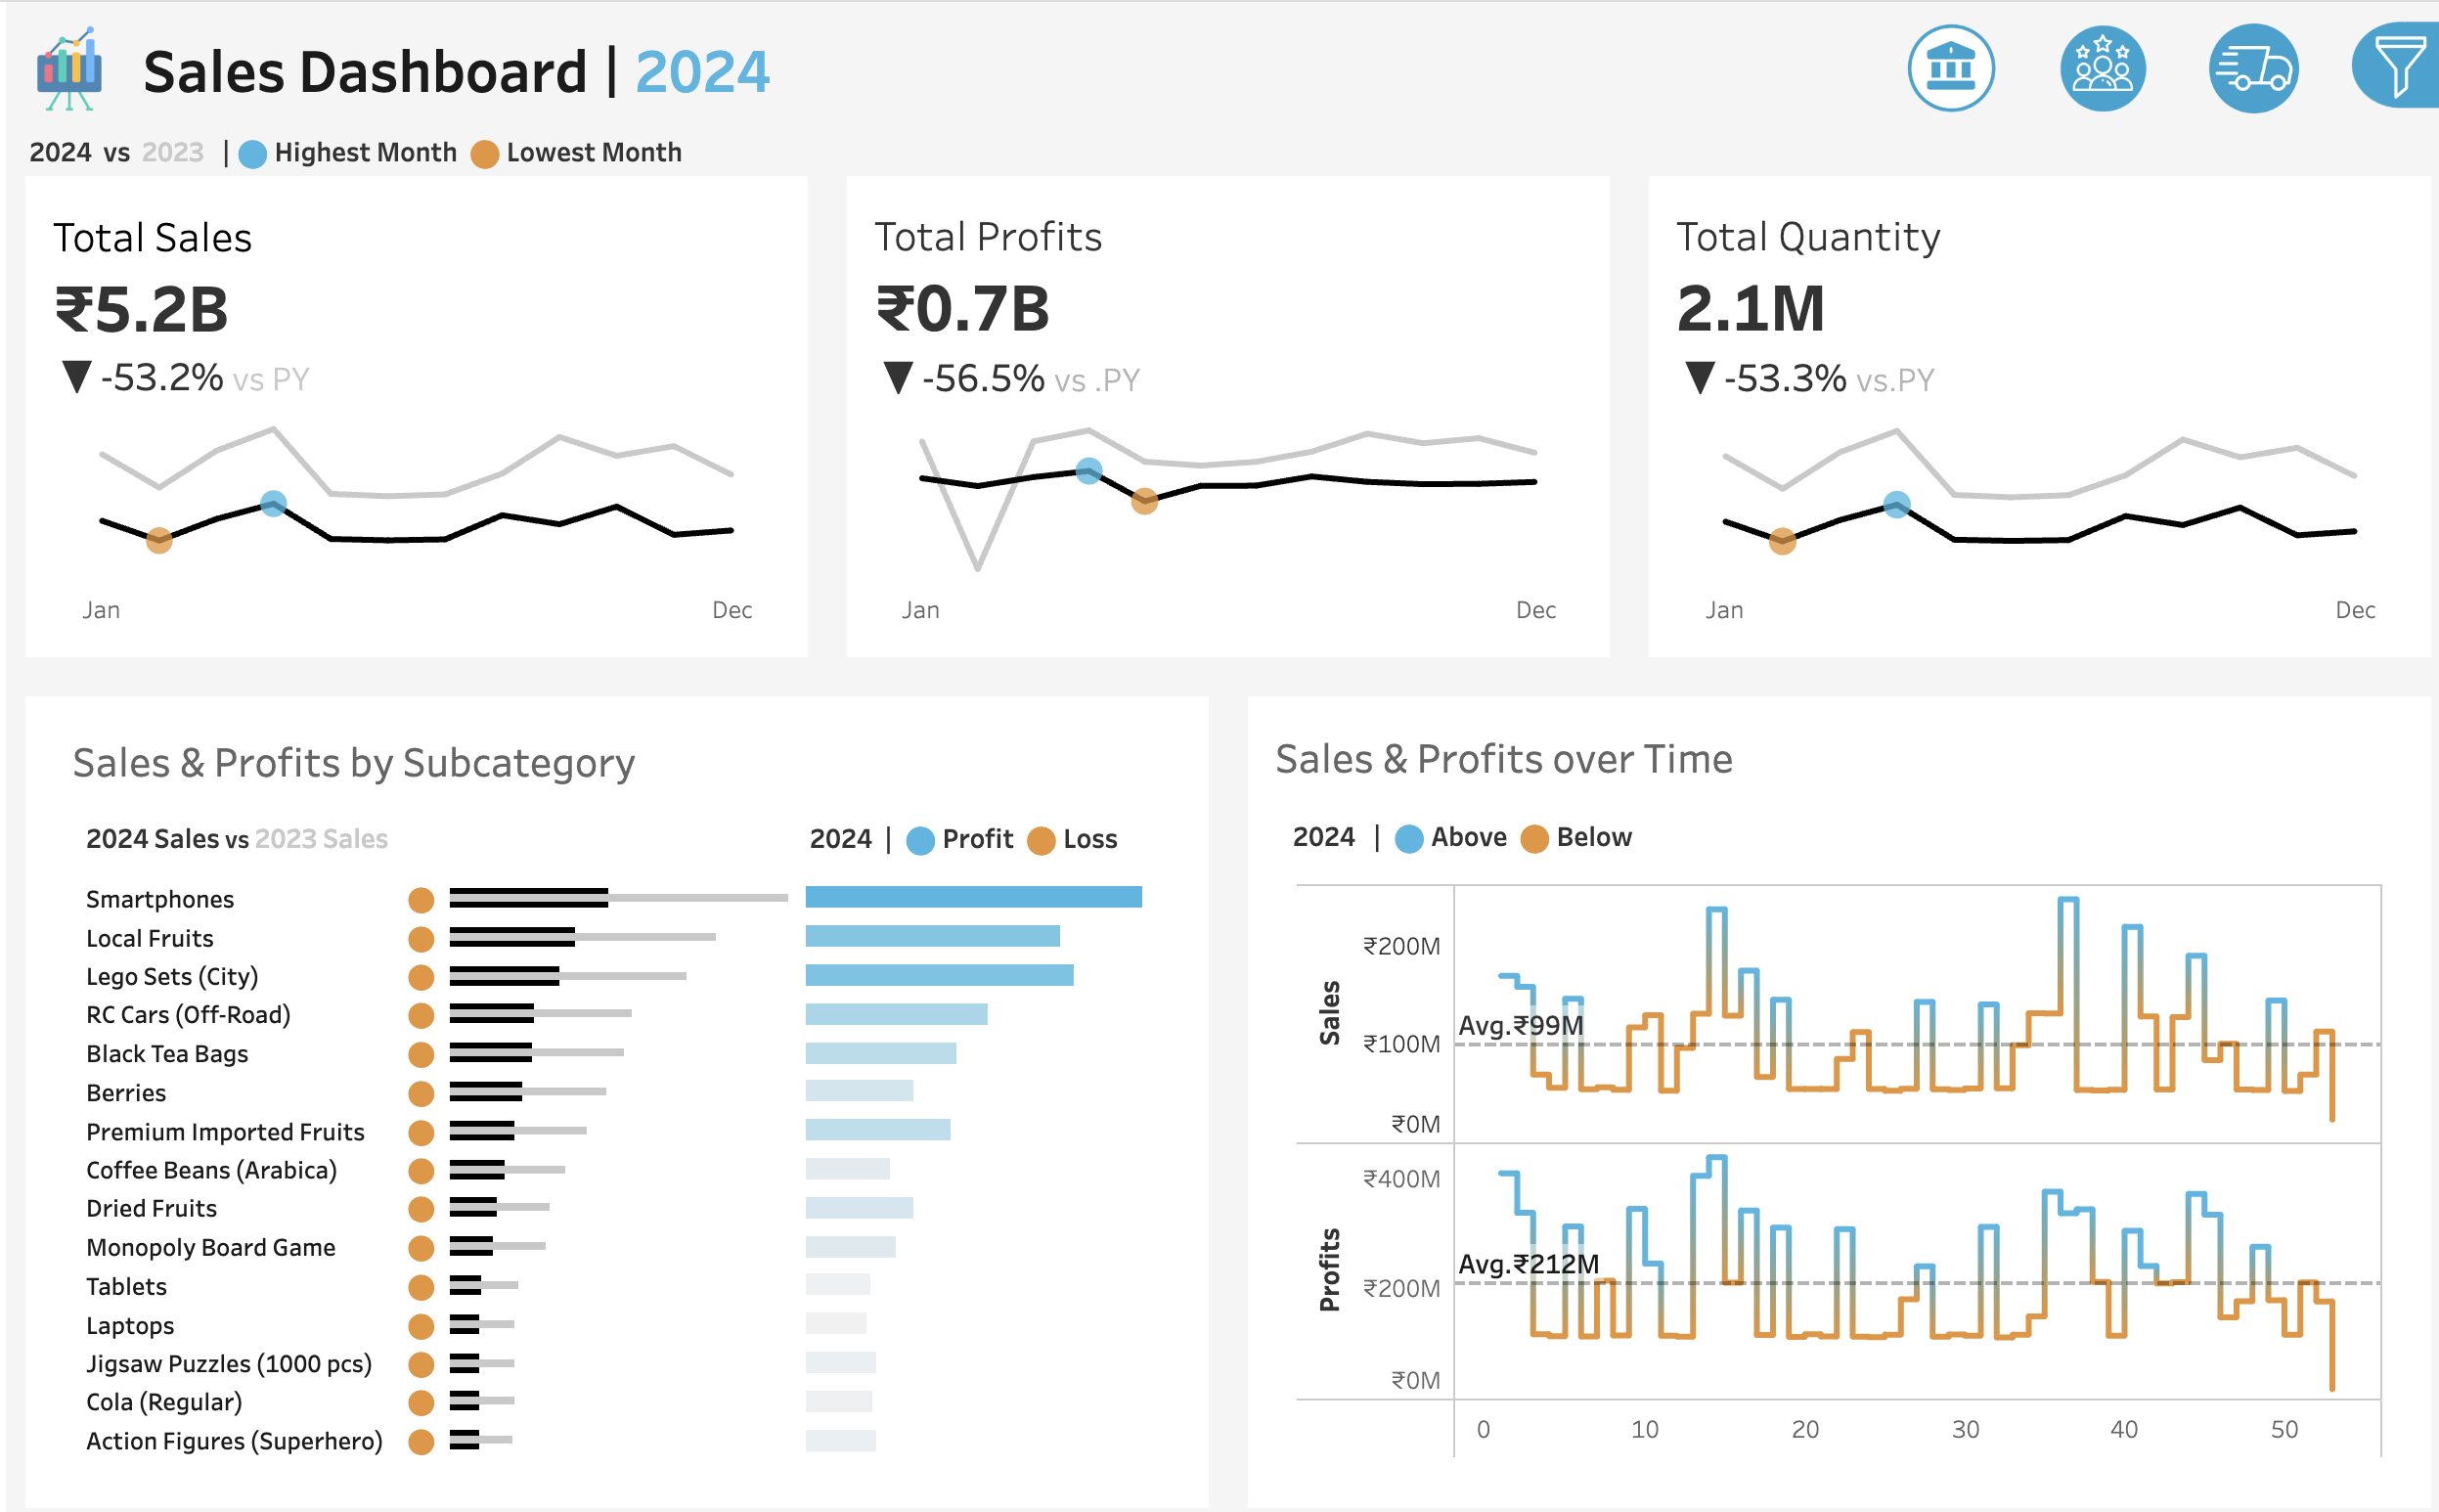

The page's visual inventory and layout, read from the dashboard file:
{"tool":"tableau","page":{"name":"Sales Dashboard","canvas":[1250,780],"ordinal":2},"visuals":[{"type":"image","param":"/Users/mohidshaik/Downloads/metrics.png","box":[0,5,70,58]},{"type":"text","box":[70,5,884,58]},{"type":"blank","box":[1190,5,55,58]},{"type":"dashboard-object","box":[956,7,78,54]},{"type":"dashboard-object","box":[1034,7,77,54]},{"type":"dashboard-object","box":[1111,7,77,54]},{"type":"dashboard-object","box":[1192,9,59,47]},{"type":"worksheet","title":"KPI LEGEND","mark":"Automatic","box":[0,63,1250,26]},{"type":"blank","box":[1061,69,170,32]},{"type":"worksheet","title":"KPI Sales","mark":"Line","rows":["Calculation_3835096560891740163"],"cols":["order_date"],"box":[10,89,410,246]},{"type":"worksheet","title":"KPI Profit","mark":"Line","rows":["Calculation_4300233960864202754"],"cols":["order_date"],"box":[420,89,410,246]},{"type":"worksheet","title":"KPI Quantity","mark":"Line","rows":["Calculation_4373628561052540928"],"cols":["order_date"],"box":[830,89,410,246]},{"type":"text","box":[1061,101,170,35]},{"type":"parameter","param":"[Parameters].[Parameter 1]","box":[1061,136,170,95]},{"type":"blank","box":[1061,231,170,38]},{"type":"filter","title":"KPI Sales","param":"[federated.0jrxjab129si8m1czdj530nh74pa].[none:delivered_city:nk]","box":[1061,269,170,73]},{"type":"blank","box":[1061,342,170,32]},{"type":"text","box":[20,365,585,46]},{"type":"text","box":[645,365,585,46]},{"type":"filter","title":"KPI Sales","param":"[federated.0jrxjab129si8m1czdj530nh74pa].[none:Category:nk]","box":[1061,374,170,73]},{"type":"worksheet","title":"Legend -subcategory","mark":"Automatic","box":[20,411,383,32]},{"type":"worksheet","title":"Legend-subCategory 2","mark":"Automatic","box":[403,411,202,32]},{"type":"worksheet","title":"Legend-weekly Trends","mark":"Automatic","box":[645,411,585,30]},{"type":"worksheet","title":"Weekly Trends","mark":"Automatic","rows":["Calculation_2896377578642673669","Calculation_2896377578642808838"],"cols":["order_date"],"box":[645,441,585,319]},{"type":"worksheet","title":"Sub Category","mark":"Bar","rows":["Subcategory","Calculation_4202351037405708288"],"cols":["Calculation_2896377578642673669","Calculation_2896377578642808838","Calculation_2896377578643378184"],"box":[20,443,585,317]}]}

Visuals, with their boxes in screenshot pixels (x1, y1, x2, y2), scaled from the page's 1250x780 canvas onto the 2439x1512 screenshot:
image: l=0, t=10, r=137, b=122
text: l=137, t=10, r=1861, b=122
blank: l=2322, t=10, r=2429, b=122
dashboard-object: l=1865, t=14, r=2018, b=118
dashboard-object: l=2018, t=14, r=2168, b=118
dashboard-object: l=2168, t=14, r=2318, b=118
dashboard-object: l=2326, t=18, r=2438, b=109
"KPI LEGEND" worksheet: l=0, t=122, r=2438, b=172
blank: l=2070, t=134, r=2402, b=196
"KPI Sales" worksheet (Line marks): l=20, t=172, r=820, b=649
"KPI Profit" worksheet (Line marks): l=820, t=172, r=1619, b=649
"KPI Quantity" worksheet (Line marks): l=1619, t=172, r=2419, b=649
text: l=2070, t=196, r=2402, b=264
parameter: l=2070, t=264, r=2402, b=448
blank: l=2070, t=448, r=2402, b=521
"KPI Sales" filter: l=2070, t=521, r=2402, b=663
blank: l=2070, t=663, r=2402, b=725
text: l=39, t=707, r=1180, b=797
text: l=1259, t=707, r=2400, b=797
"KPI Sales" filter: l=2070, t=725, r=2402, b=867
"Legend -subcategory" worksheet: l=39, t=797, r=786, b=859
"Legend-subCategory 2" worksheet: l=786, t=797, r=1180, b=859
"Legend-weekly Trends" worksheet: l=1259, t=797, r=2400, b=855
"Weekly Trends" worksheet: l=1259, t=855, r=2400, b=1473
"Sub Category" worksheet (Bar marks): l=39, t=859, r=1180, b=1473
